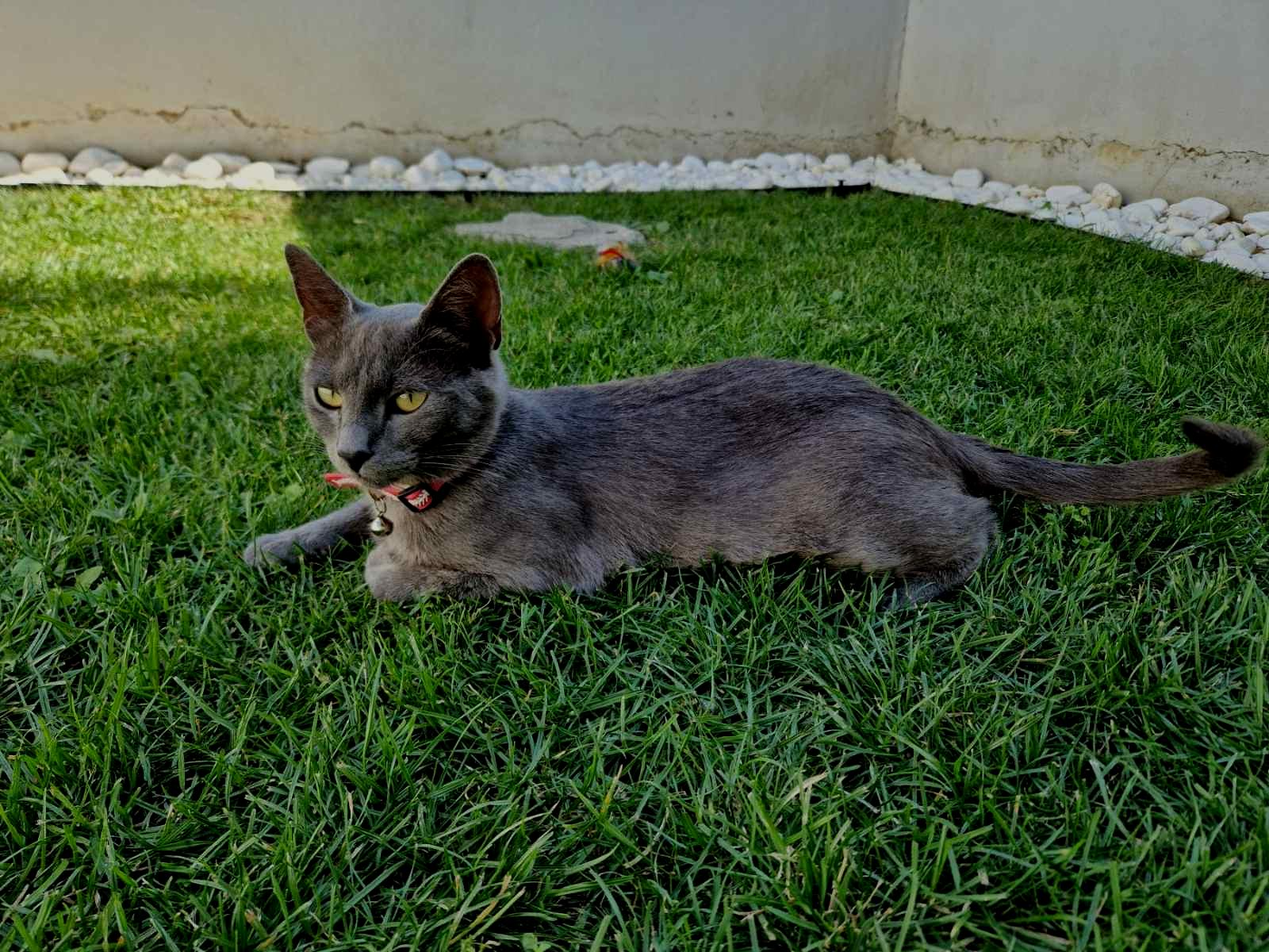macka: (238, 253, 1267, 603)
